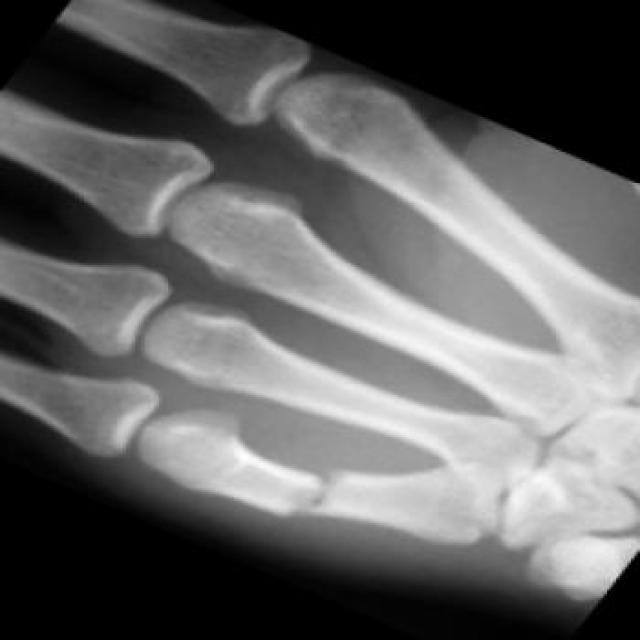Fracture: (280, 460, 355, 515)
